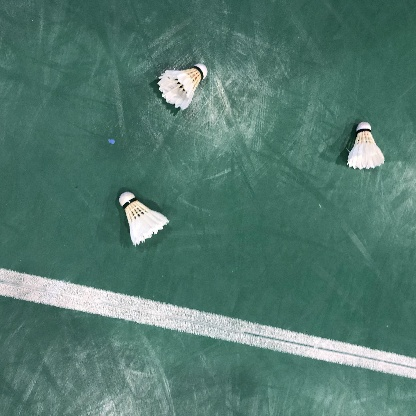ball_single: (119, 191, 169, 246), (158, 64, 207, 110), (347, 122, 385, 170)
